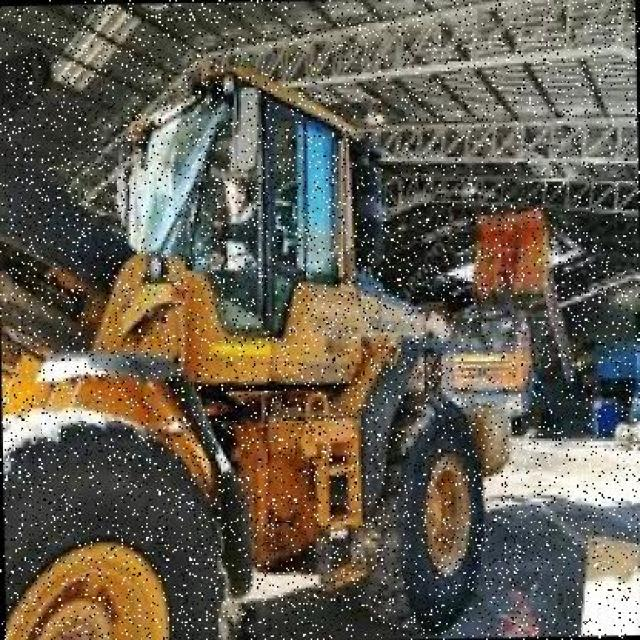buldozerpayloadergrader: (0, 54, 488, 640)
